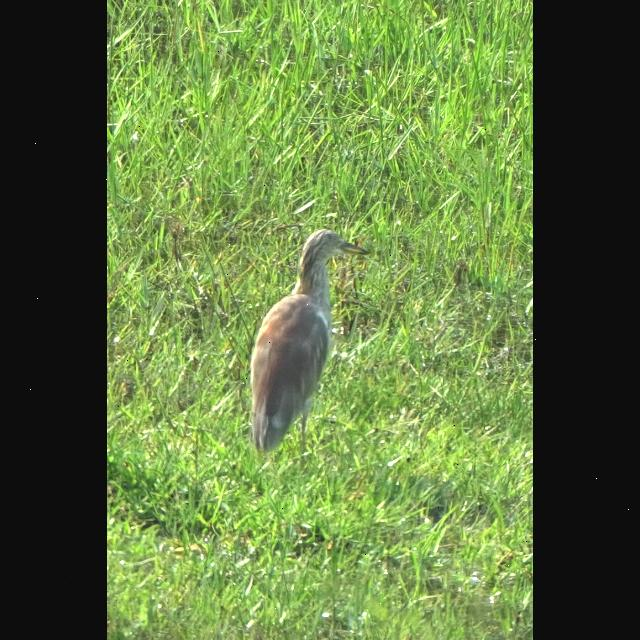heron: (240, 214, 380, 478)
